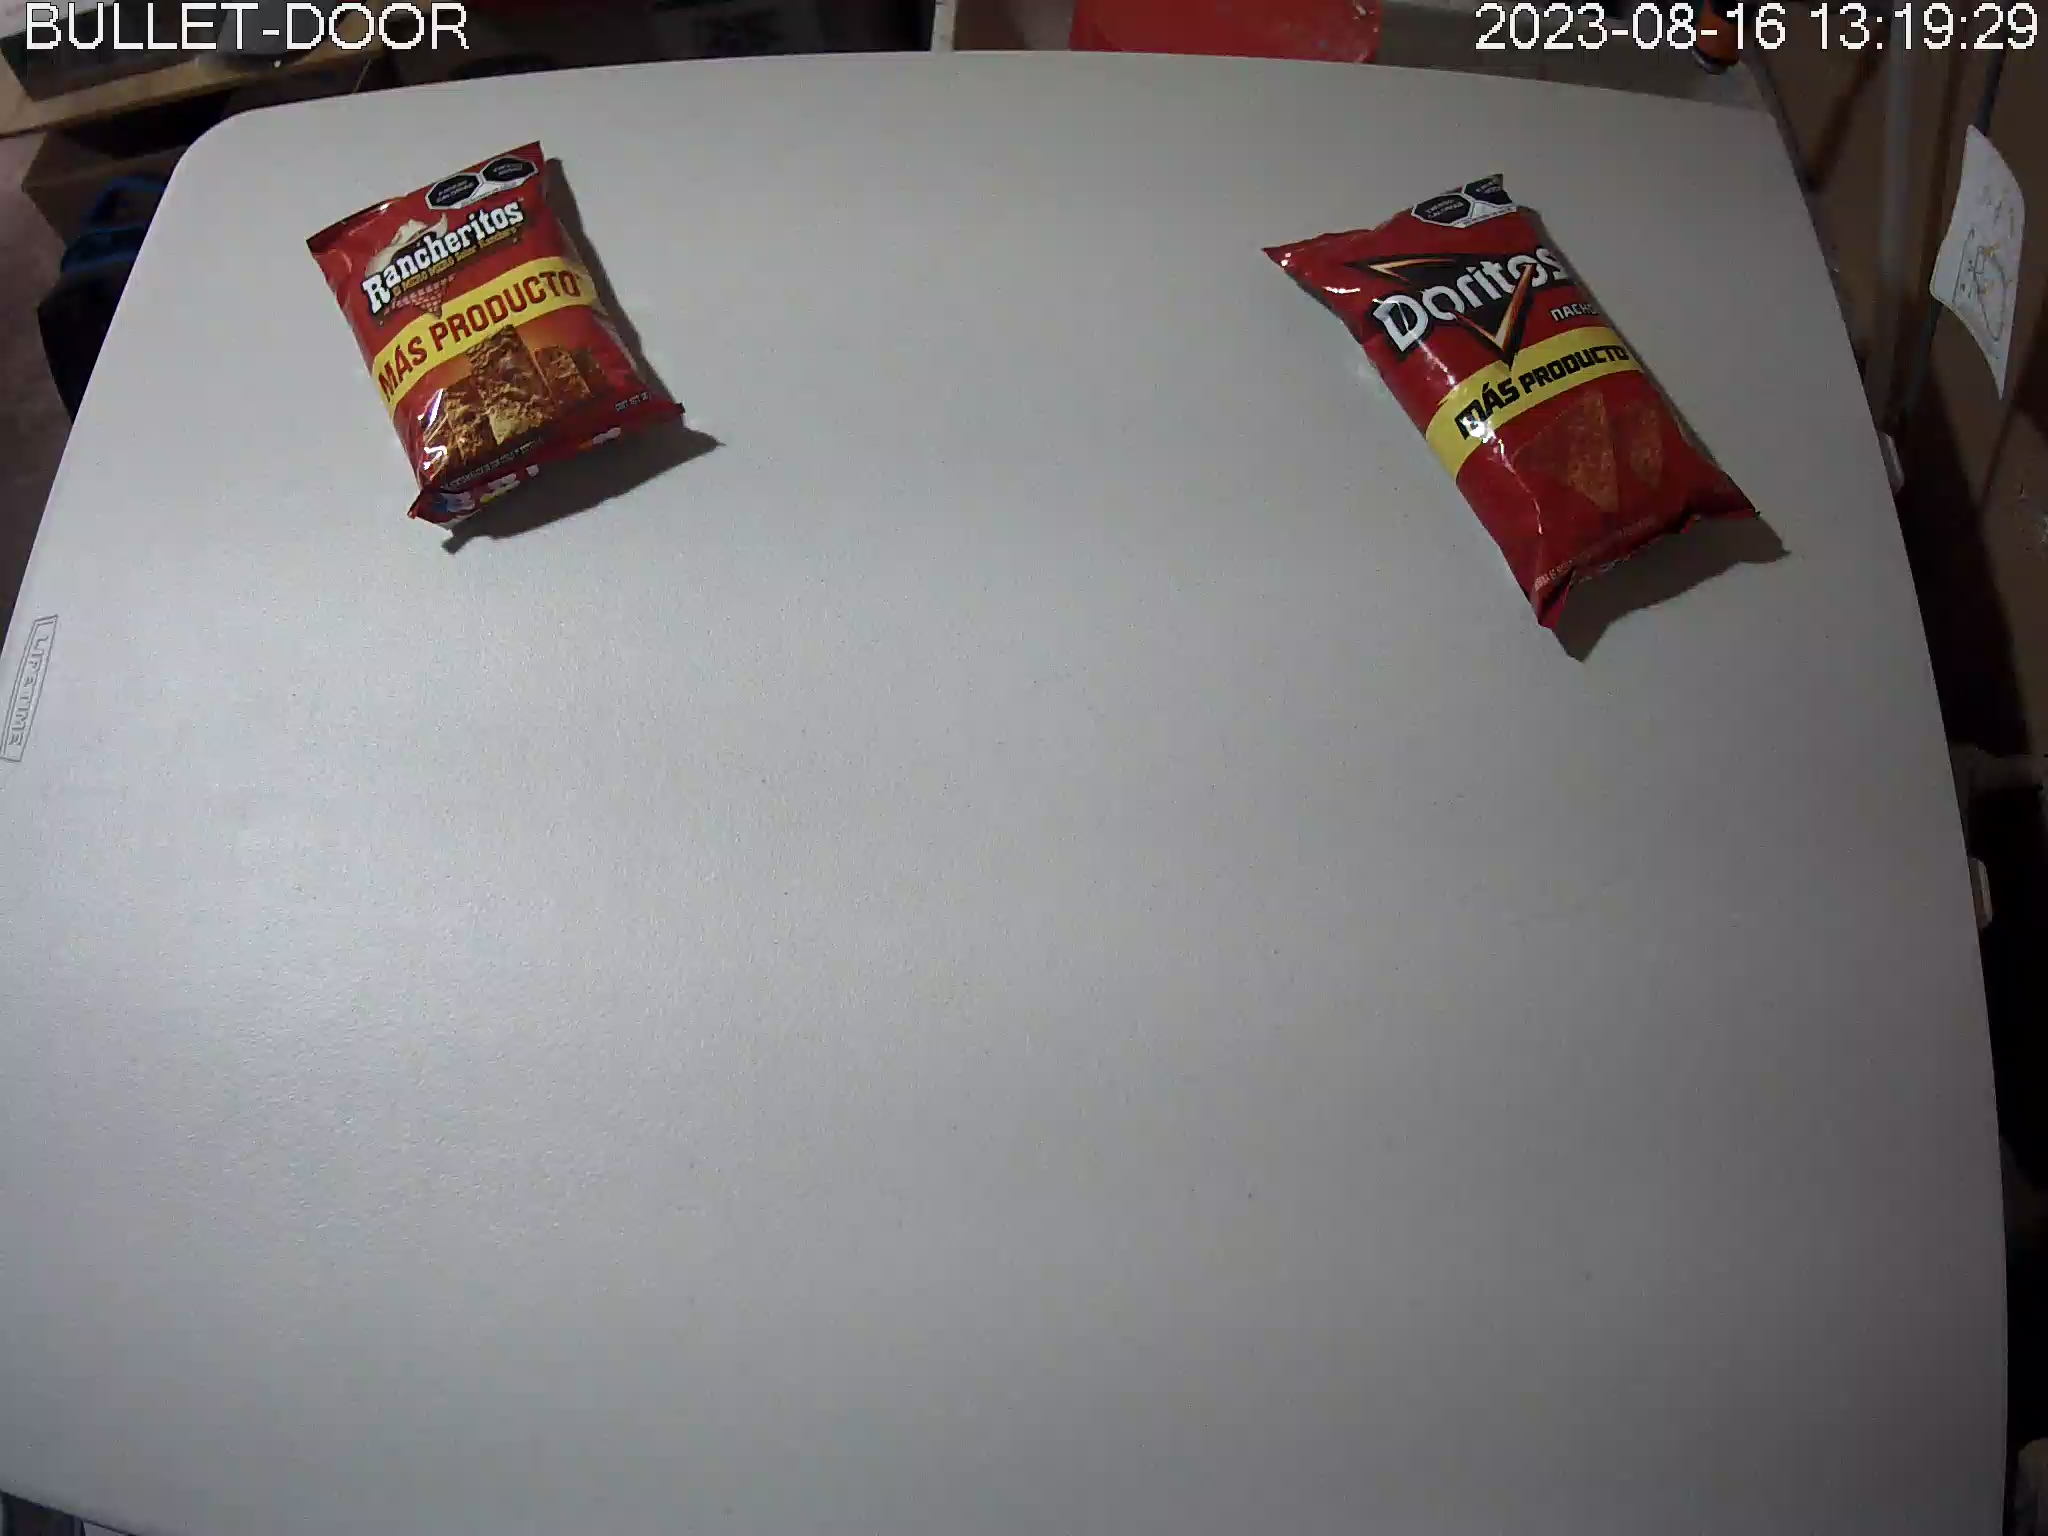DoritosN_61_F: (1259, 173, 1766, 636)
Rancheritos_58_F: (306, 140, 685, 529)
